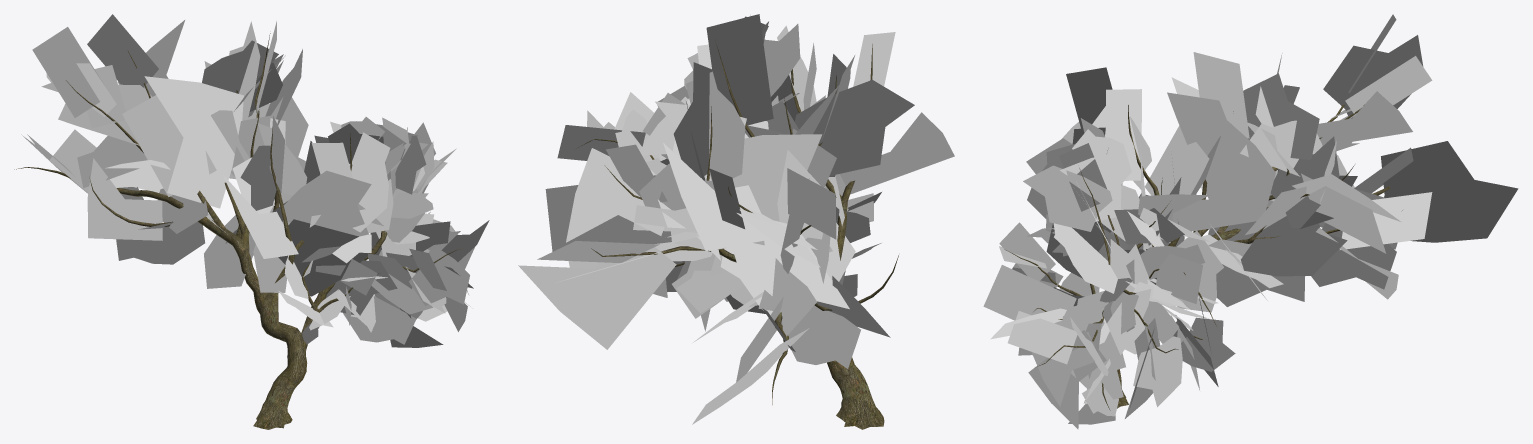
Rendered from Tree_4796.fbx.
3 views of the same model, side by side, from view 1: azimuth 30°, elevation 25°; view 2: azimuth 150°, elevation 25°; view 3: azimuth 270°, elevation 25° (orthographic). The views are drawn at different scales.
Parts seen in each view (by area): view 1: Tree_4796_Viaz_AT, Tree_4796_VIAZ_bARK; view 2: Tree_4796_Viaz_AT, Tree_4796_VIAZ_bARK; view 3: Tree_4796_Viaz_AT, Tree_4796_VIAZ_bARK.
Part boxes in pixels (x1,y1,x2,y2): Tree_4796_Viaz_AT: (21, 14, 489, 347); Tree_4796_VIAZ_bARK: (14, 33, 468, 429); Tree_4796_Viaz_AT: (518, 14, 954, 424); Tree_4796_VIAZ_bARK: (576, 44, 898, 429); Tree_4796_Viaz_AT: (983, 14, 1518, 429); Tree_4796_VIAZ_bARK: (1006, 104, 1402, 410).
Bounding box in the file's own units: 78.76 × 78.65 × 102.
